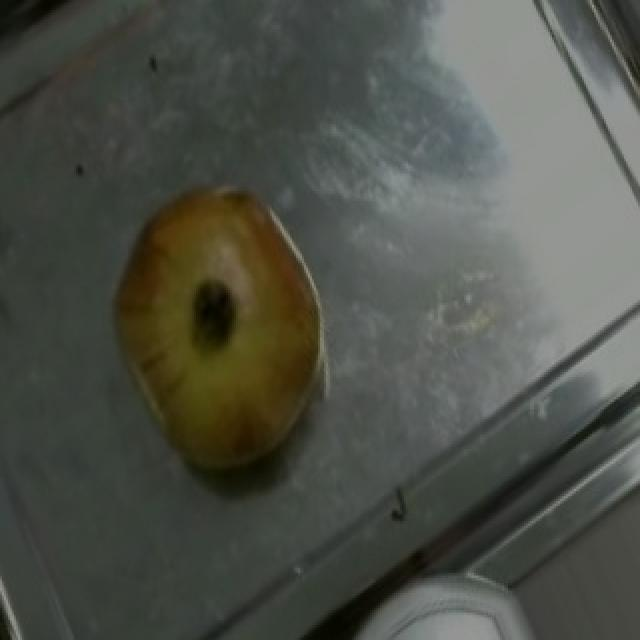fruit: (78, 156, 358, 432)
